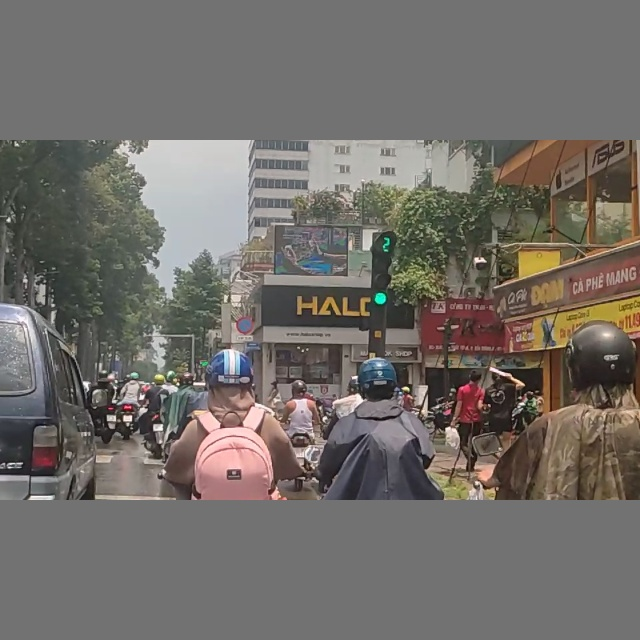P.131a: (235, 315, 255, 335)
